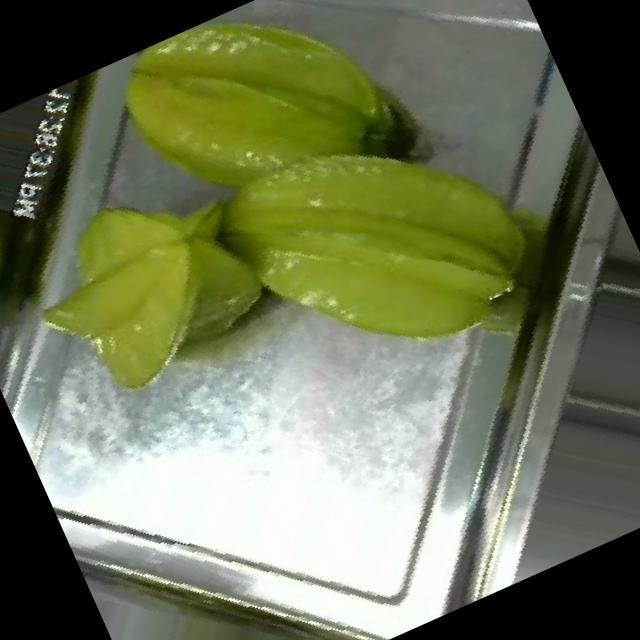fruit: (136, 32, 626, 490), (56, 0, 472, 319), (0, 106, 346, 466), (97, 497, 400, 640), (0, 119, 85, 377)
